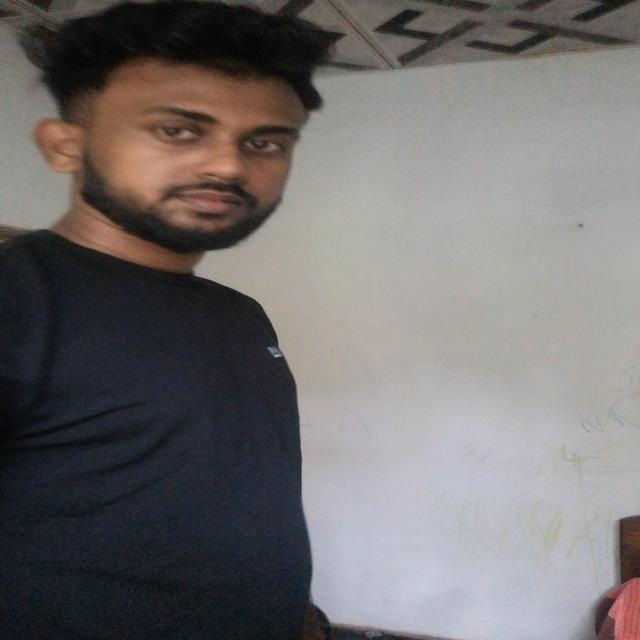Person: (3, 4, 366, 628)
